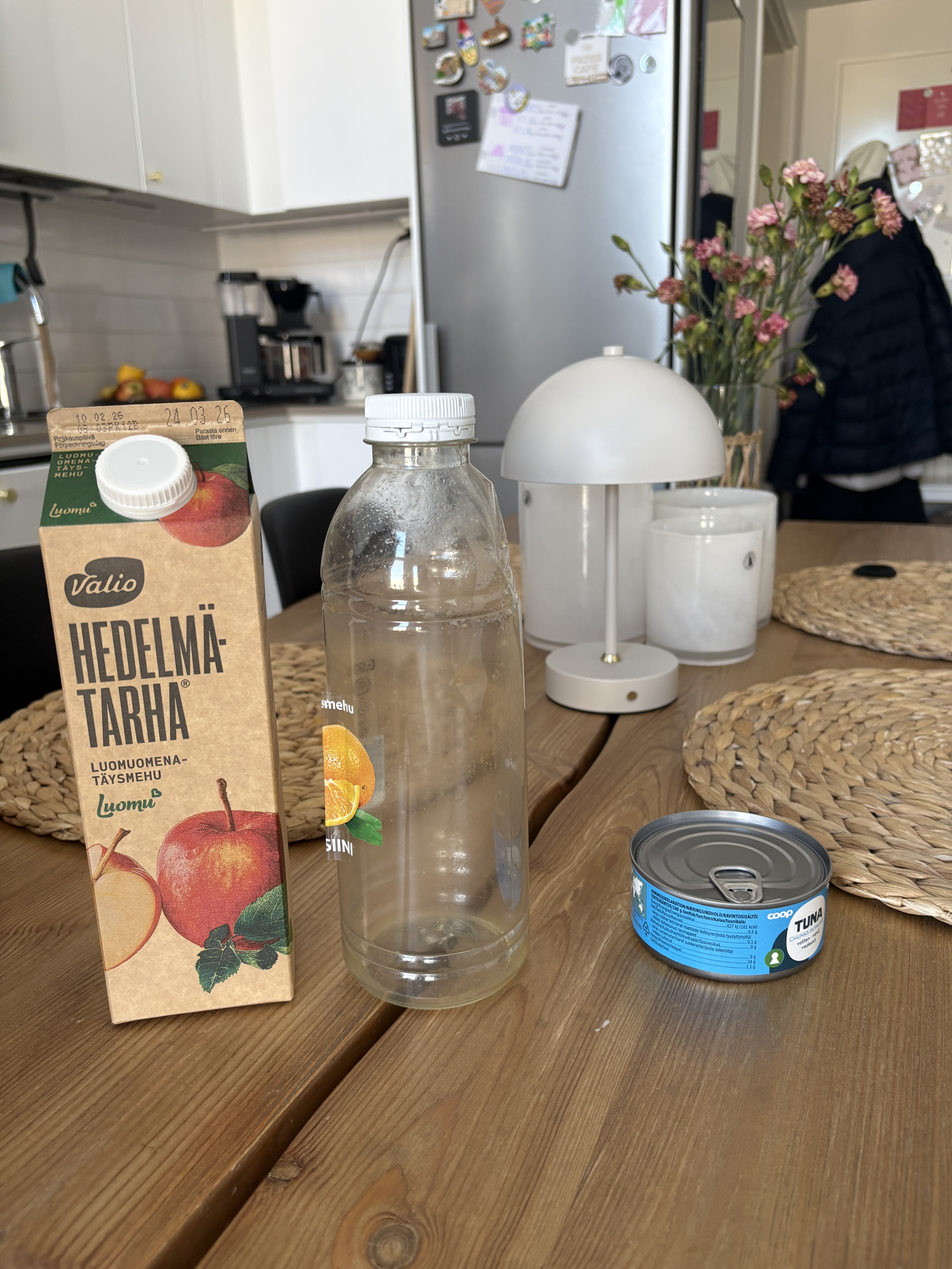Dryckeskartong: (25, 393, 319, 1038)
Konservburk: (610, 800, 870, 1011)
Pantburk: (319, 388, 570, 1035)
